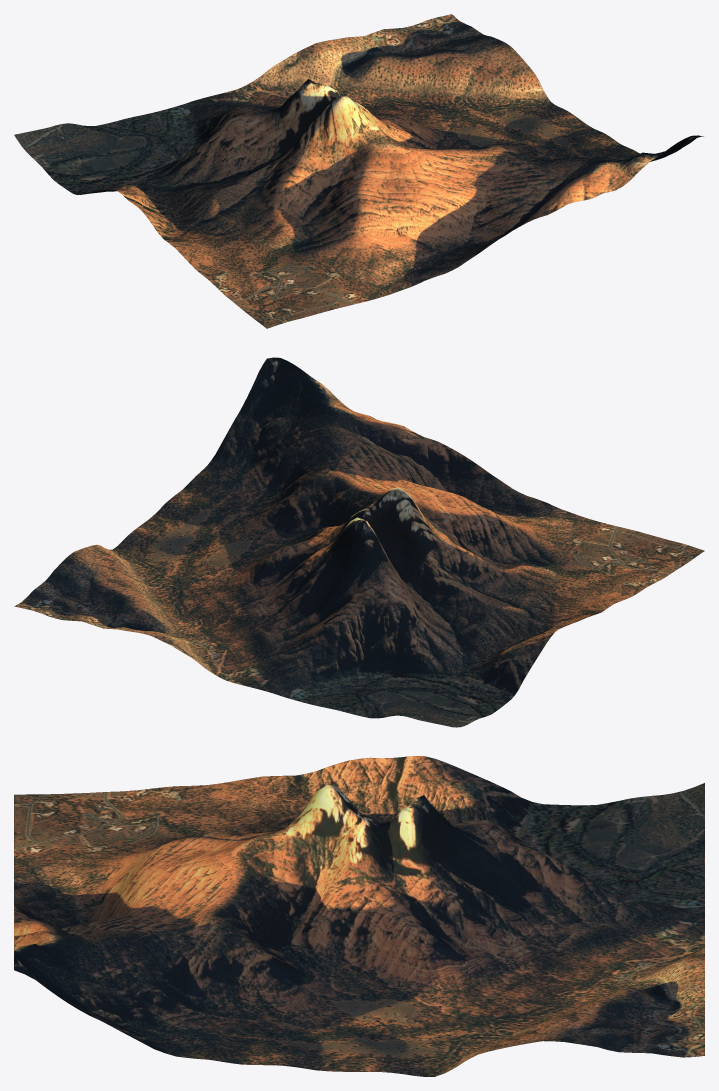
The model's file is CathedralRock.glb.
3 views of the same model, one above another, from view 1: azimuth 30°, elevation 25°; view 2: azimuth 150°, elevation 25°; view 3: azimuth 270°, elevation 25° (orthographic). The views are drawn at different scales.
Parts seen in each view (by area): view 1: EXPORT_BING_SAT_WM; view 2: EXPORT_BING_SAT_WM; view 3: EXPORT_BING_SAT_WM.
Part boxes in pixels (x1=…): EXPORT_BING_SAT_WM: x1=14, y1=14, x2=703, y2=328; EXPORT_BING_SAT_WM: x1=14, y1=357, x2=704, y2=727; EXPORT_BING_SAT_WM: x1=14, y1=756, x2=704, y2=1076.
Size of the model in its own units: 2446 by 579 by 2446.
Materials: 1 (1 with a texture image).
